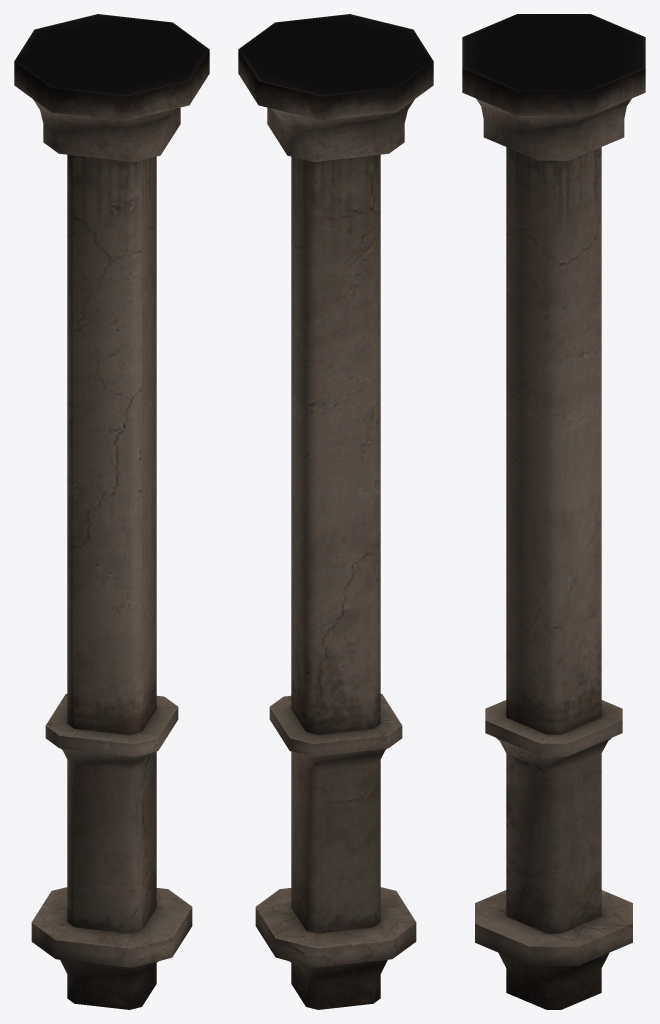
The model's file is 42_welder.dae.
The picture shows the model from 3 angles, left to right: view 1: azimuth 30°, elevation 25°; view 2: azimuth 150°, elevation 25°; view 3: azimuth 270°, elevation 25°; orthographic projection.
Visible parts, largest first — view 1: mansionbase_welder; view 2: mansionbase_welder; view 3: mansionbase_welder.
Boxes of the visible parts, x1,y1,x2,y2 form: mansionbase_welder: (14, 14, 209, 1009); mansionbase_welder: (238, 14, 433, 1009); mansionbase_welder: (462, 14, 645, 1009).
Size of the model in its own units: 0.7087 by 4 by 0.7087.
Materials: 1 (1 with a texture image).
